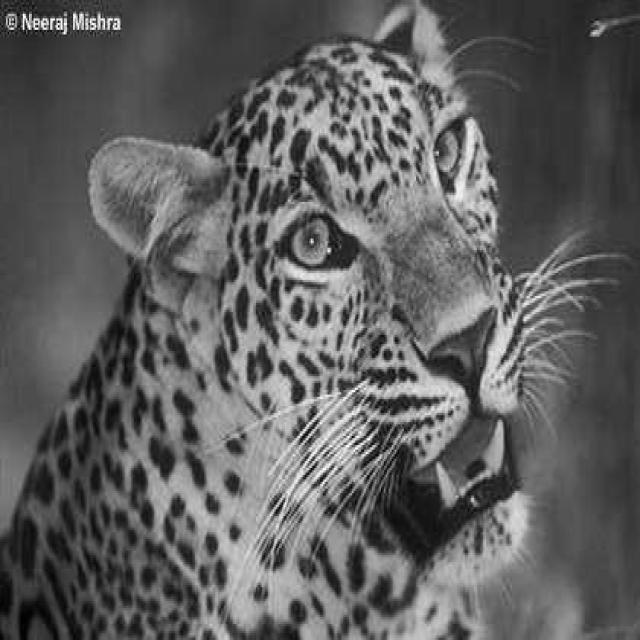Leopard: (0, 0, 632, 637)
